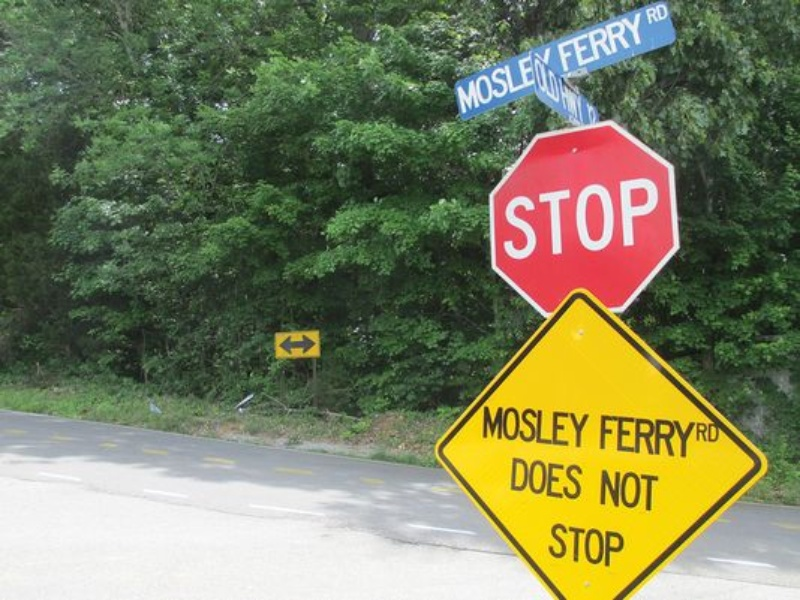stop sign: (486, 117, 687, 321)
